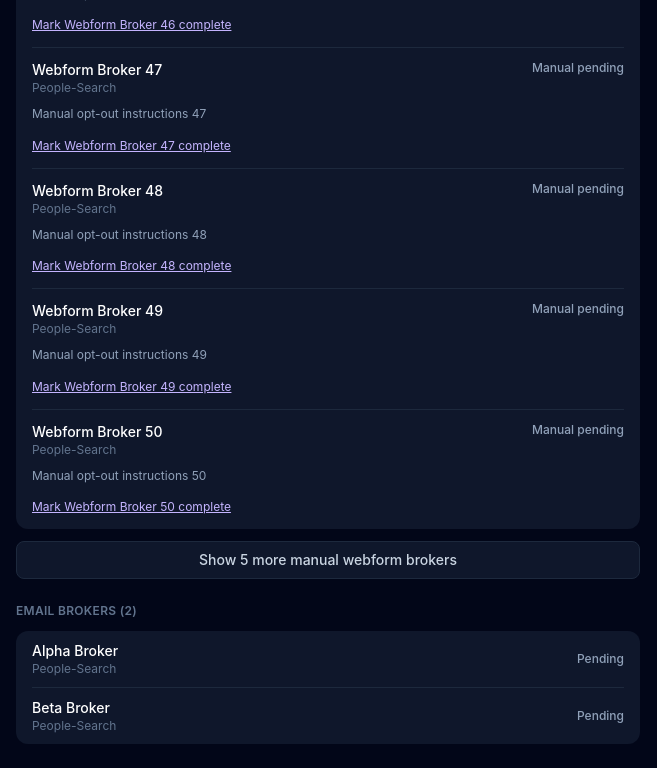
it: Dashboard safety controls › initially caps the huge manual webform queue and lets the user expand it
(page scrolled)
Check: the text "Webform Broker 50" is shown, box [32,422,162,440]
Check: the text "Webform Broker 51" is not shown
Click the button "Show 5 more manual webform brokers": {"x": 328, "y": 560} [16,541,640,579]
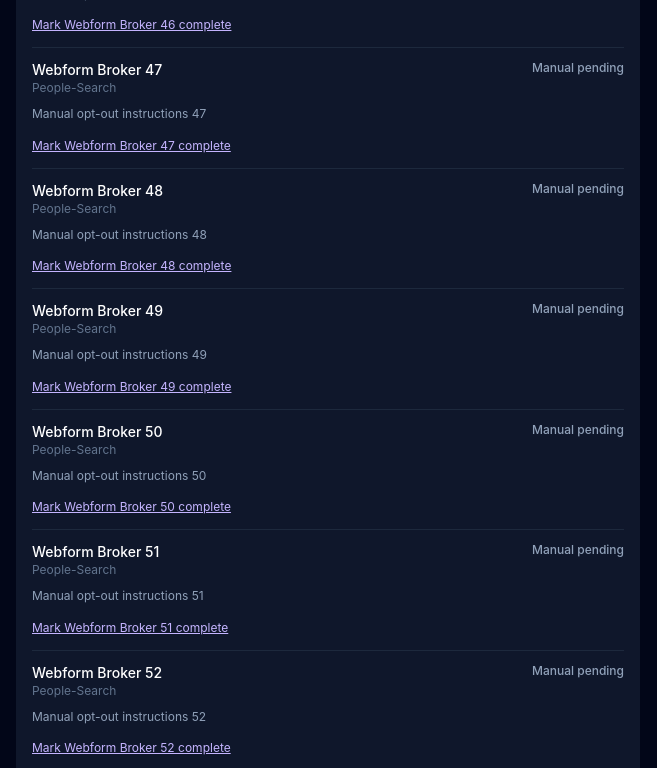
Check: the text "Webform Broker 51" is shown, box [32,543,159,560]
